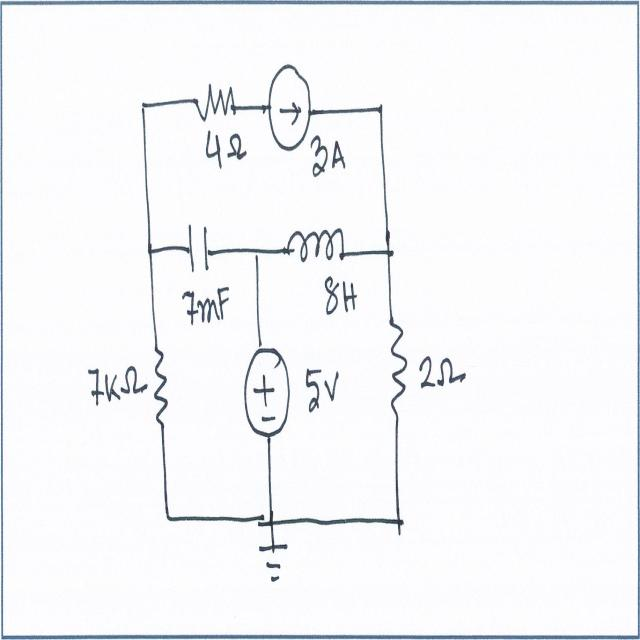capacitor: (185, 219, 213, 277)
current_source: (266, 58, 312, 156)
ground: (258, 539, 292, 598)
inductor: (283, 223, 349, 268)
resistor: (188, 75, 240, 128), (385, 311, 410, 421), (152, 337, 172, 436)
voltage_source: (242, 338, 296, 446)
